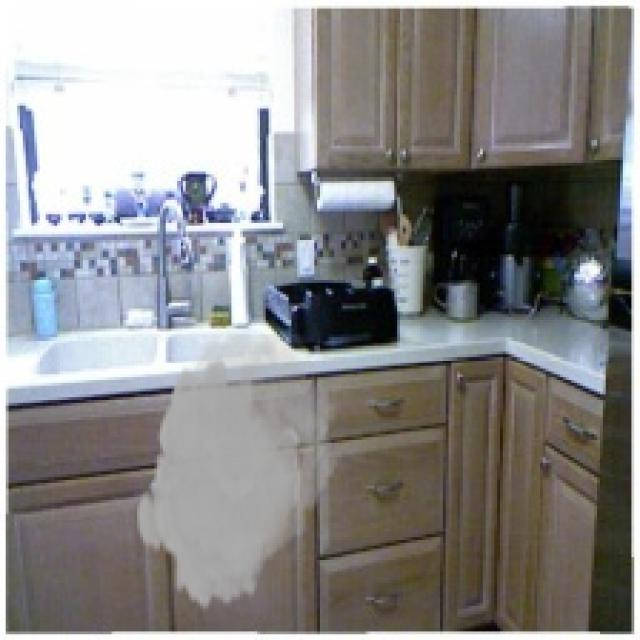smoke: (134, 334, 346, 614)
